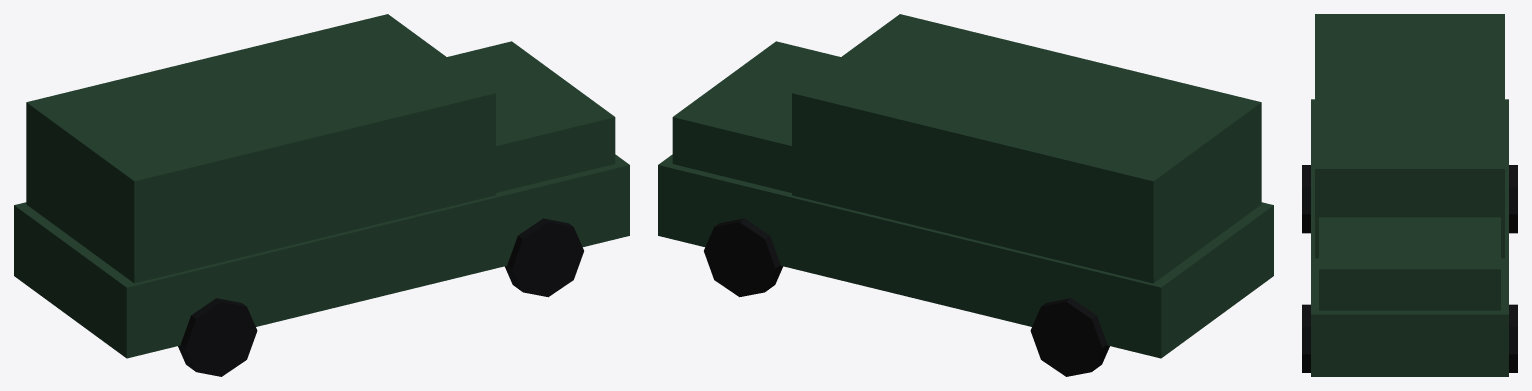
File: proxy_van_green.dae
3 renders of one model, left to right at view 1: azimuth 30°, elevation 25°; view 2: azimuth 150°, elevation 25°; view 3: azimuth 270°, elevation 25°, orthographic. The views are drawn at different scales.
Visible parts, largest first — view 1: proxy_van; view 2: proxy_van; view 3: proxy_van.
Boxes of the visible parts, bbox=[...] form: proxy_van: bbox=[14, 14, 629, 376]; proxy_van: bbox=[658, 14, 1273, 376]; proxy_van: bbox=[1302, 14, 1517, 376].
Size of the model in its own units: 5.05 by 2.14 by 2.01.
